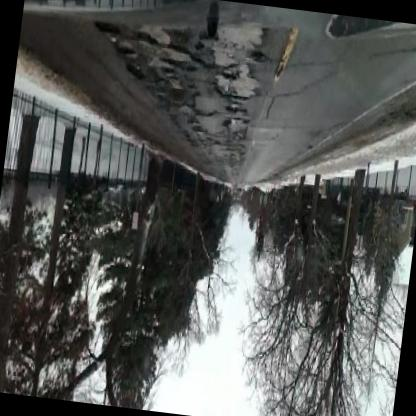pothole: (94, 17, 122, 41), (124, 60, 146, 84), (165, 60, 198, 75), (204, 19, 220, 40), (226, 103, 248, 118), (222, 67, 238, 83)
